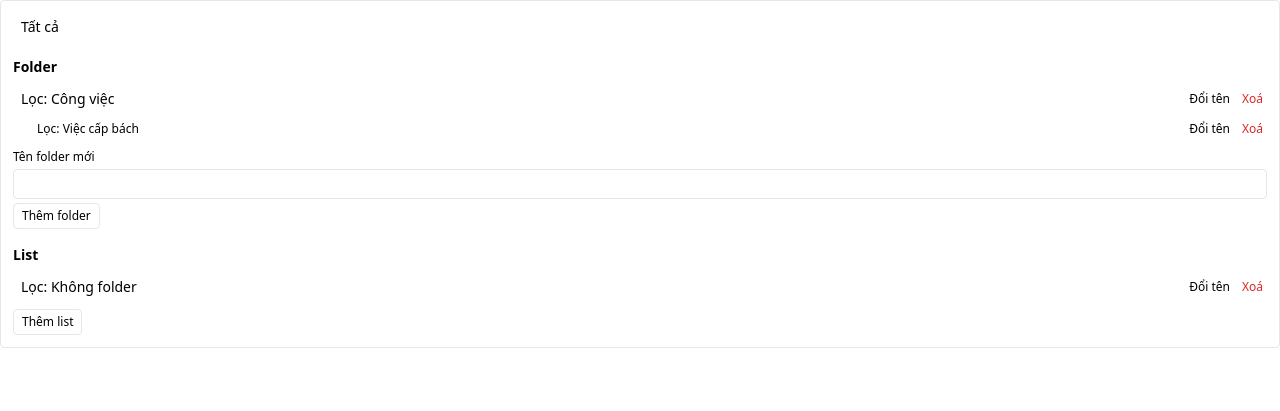
FolderListPanel › hiện lỗi khi action thất bại
The width and height of the screenshot is (1280, 411).
Type "Công việc" into the field labelled "Tên folder mới". click: (640, 184)
box: x1=13 y1=169 x2=1267 y2=199
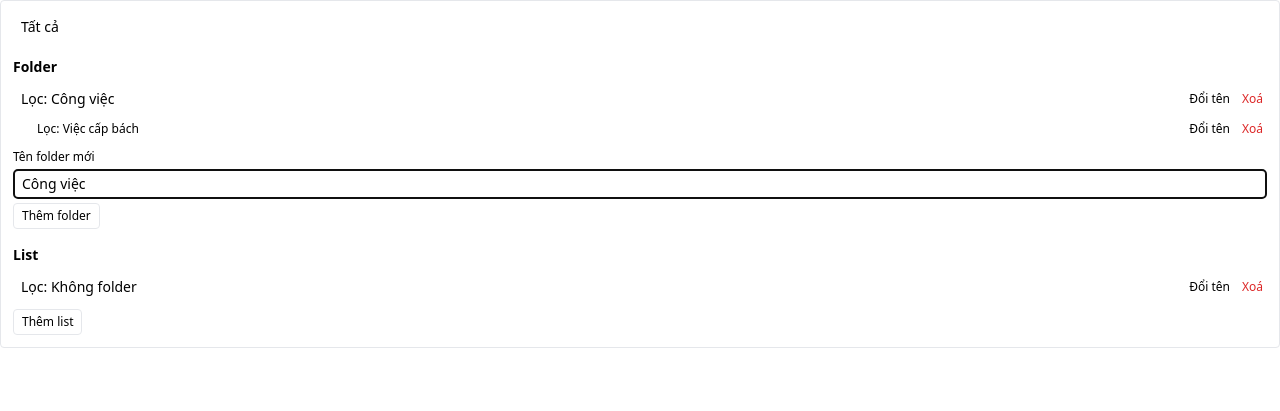
Click the button "Thêm folder". click: (56, 216)
box: x1=13 y1=203 x2=100 y2=229
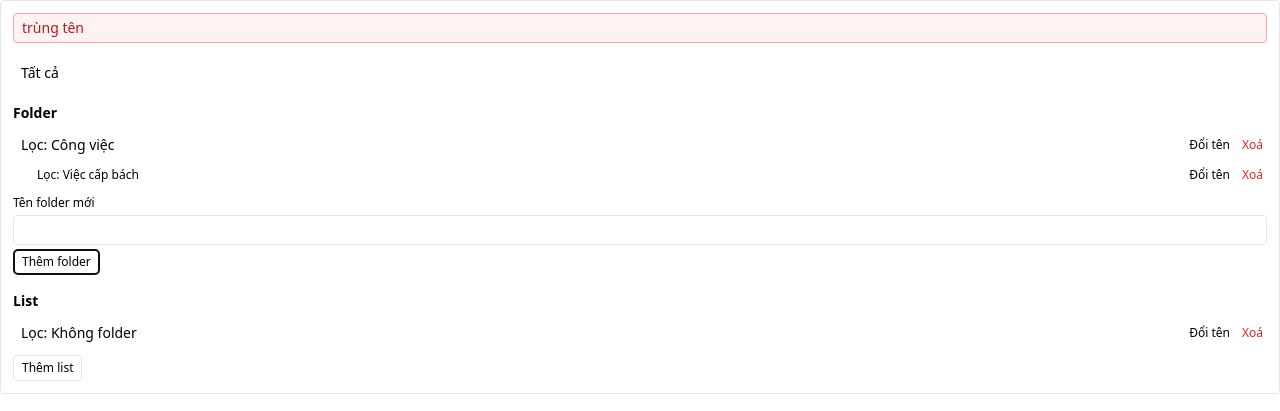
Expected: the message reads "trùng tên", x1=22 y1=18 x2=84 y2=37
